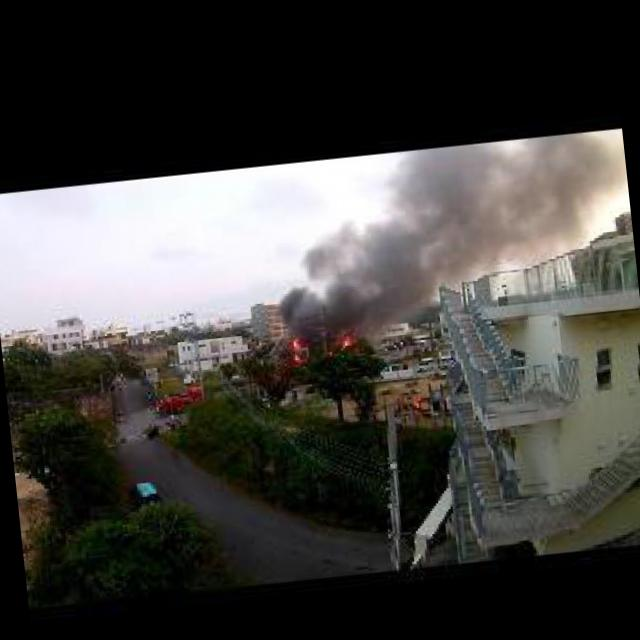fire: (290, 336, 303, 348), (290, 352, 300, 362), (342, 338, 349, 346)
smoke: (362, 128, 636, 293), (271, 221, 431, 363)
